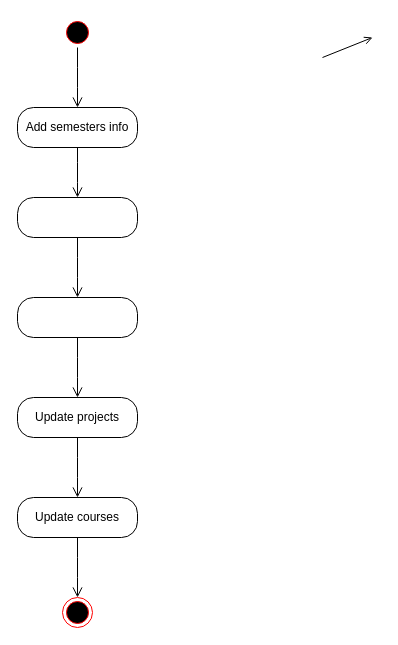
Some shapes in this 398 by 645 pixel diagram are drawn without their labels. Each missing label, with the centre of its shape:
"Add courses" belongs at (x=77, y=217).
"Add previous projects" belongs at (x=77, y=317).
